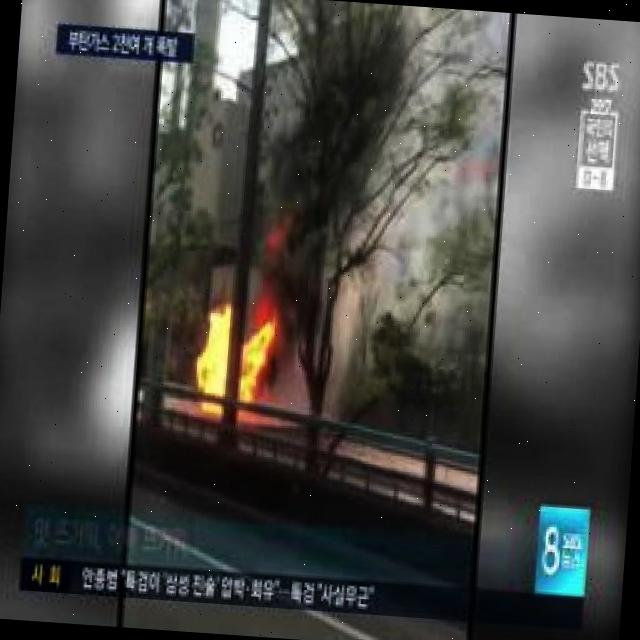fire: (183, 318, 284, 422)
